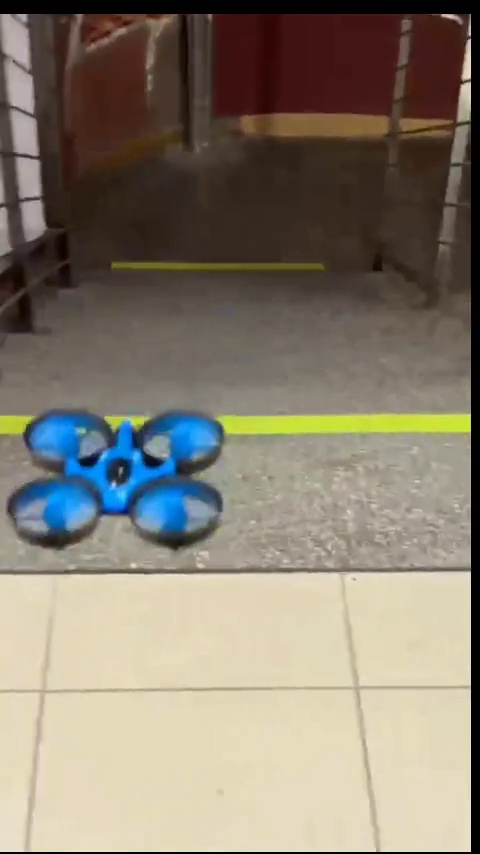drone: (14, 408, 232, 552)
